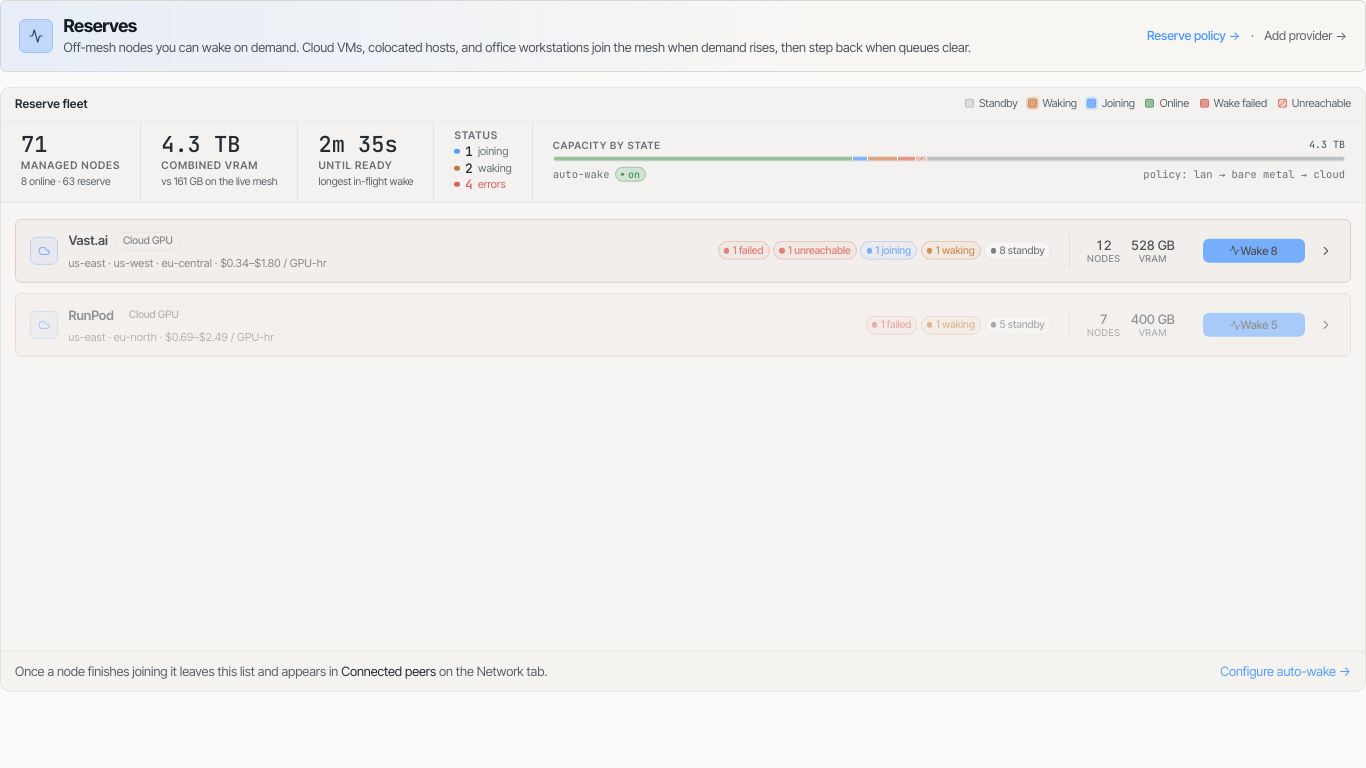
Test: ReservesPageContent › uses the full-width reserves layout when the page flag is enabled
Expected: the heading "Reserves" is shown, x1=64 y1=15 x2=137 y2=36
Click the button "Add provider →" at (1306, 36), box x1=1264 y1=30 x2=1347 y2=42
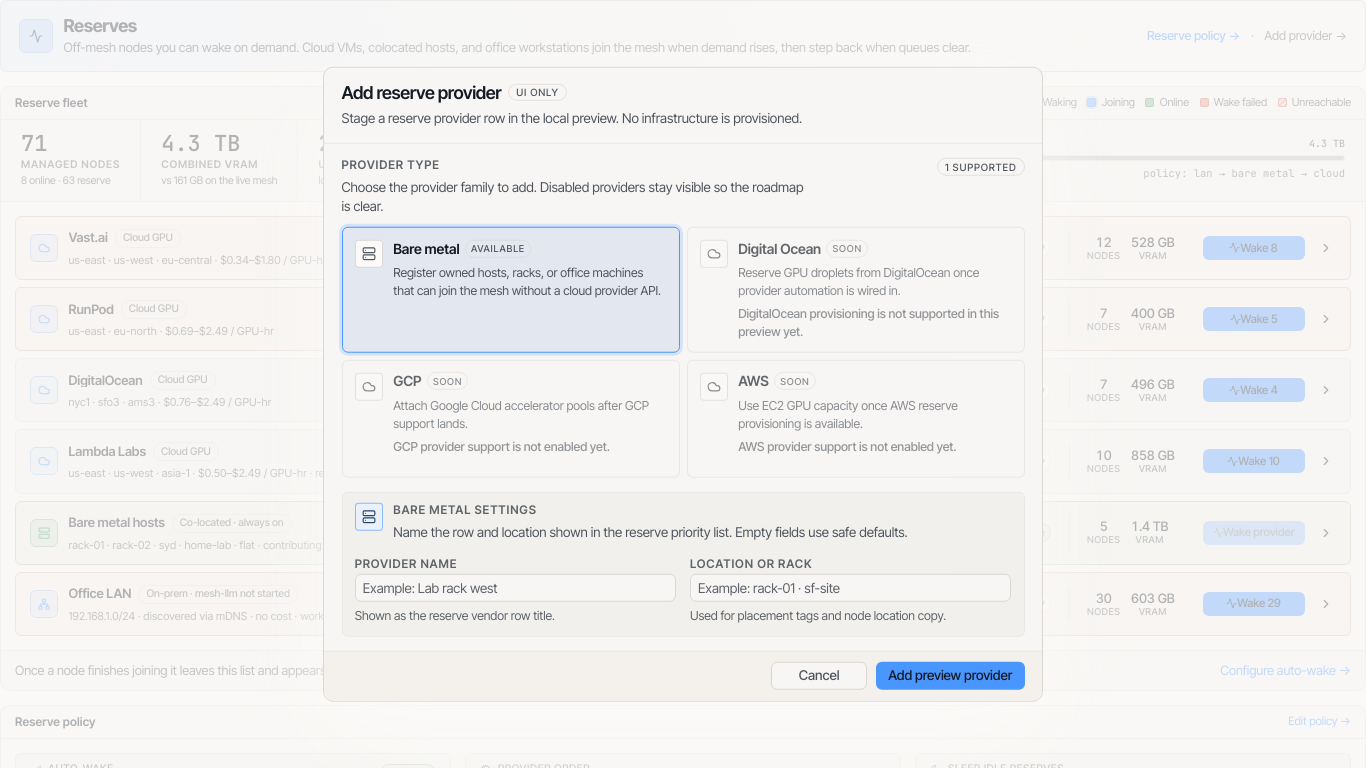
Expected: the dialog "Add reserve provider" is shown, x1=323 y1=67 x2=1043 y2=701
Expected: the radio button labelled "Bare metal" is checked, x1=342 y1=227 x2=680 y2=352
Expected: the radio button labelled "Digital Ocean" is disabled, x1=686 y1=227 x2=1024 y2=352
